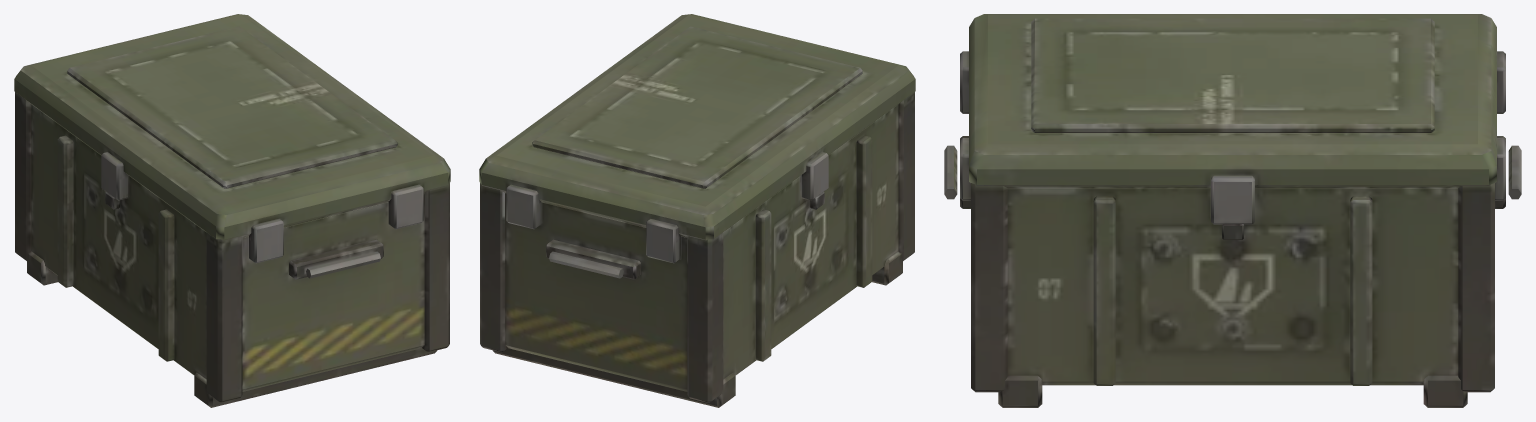
Rendered from hs_supply_crate_lod0m.glb.
3 renders of one model, left to right at view 1: azimuth 30°, elevation 25°; view 2: azimuth 150°, elevation 25°; view 3: azimuth 270°, elevation 25°, orthographic. The views are drawn at different scales.
Bounding box in the file's own units: 0.99 × 0.805 × 1.58.
1 material, 1 textured.
